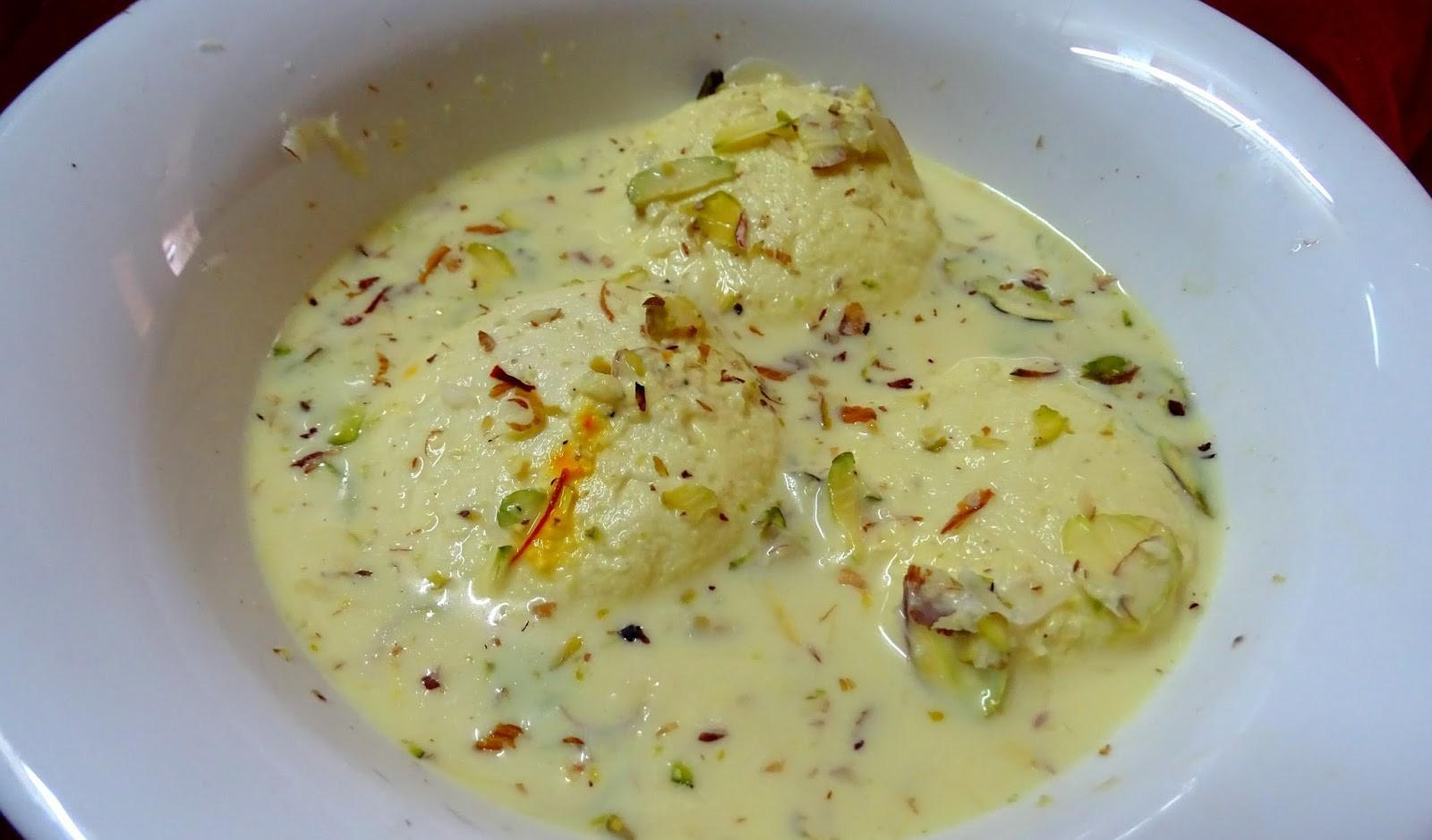RasMalai: (244, 49, 1220, 840)
